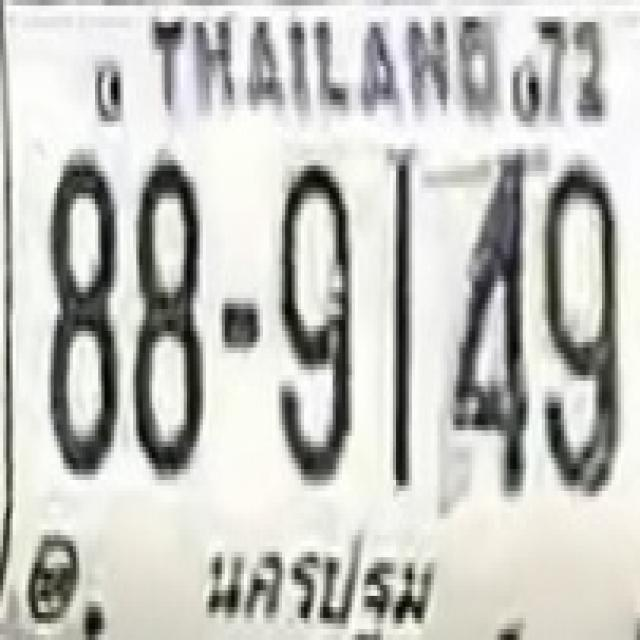1: (388, 146, 414, 488)
4: (445, 149, 528, 491)
8: (130, 154, 203, 474), (49, 152, 119, 472)
9: (540, 157, 616, 488), (276, 163, 352, 483)
NPT: (184, 504, 455, 640)
